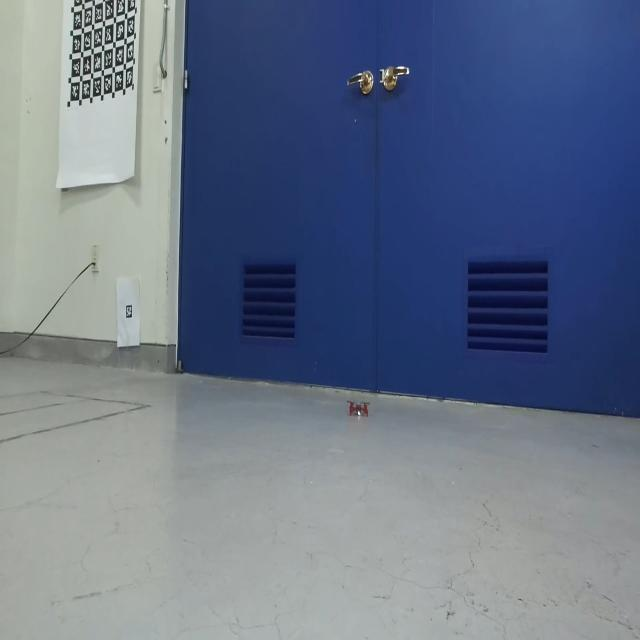crazyflie: (346, 397, 370, 419)
